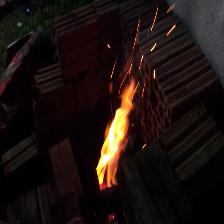fire: (91, 73, 155, 194)
